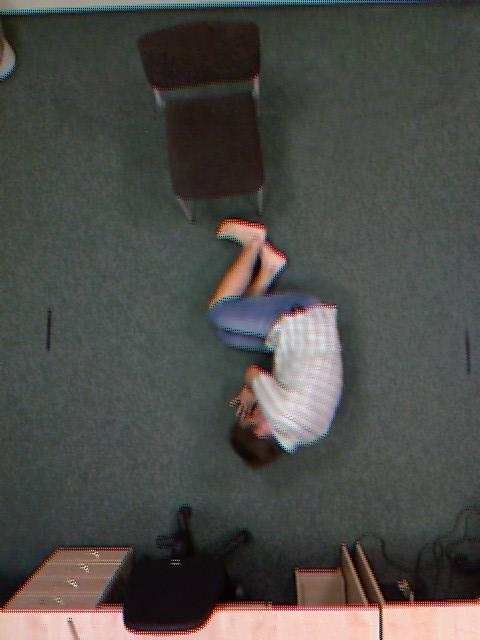fall: (177, 248, 370, 444)
